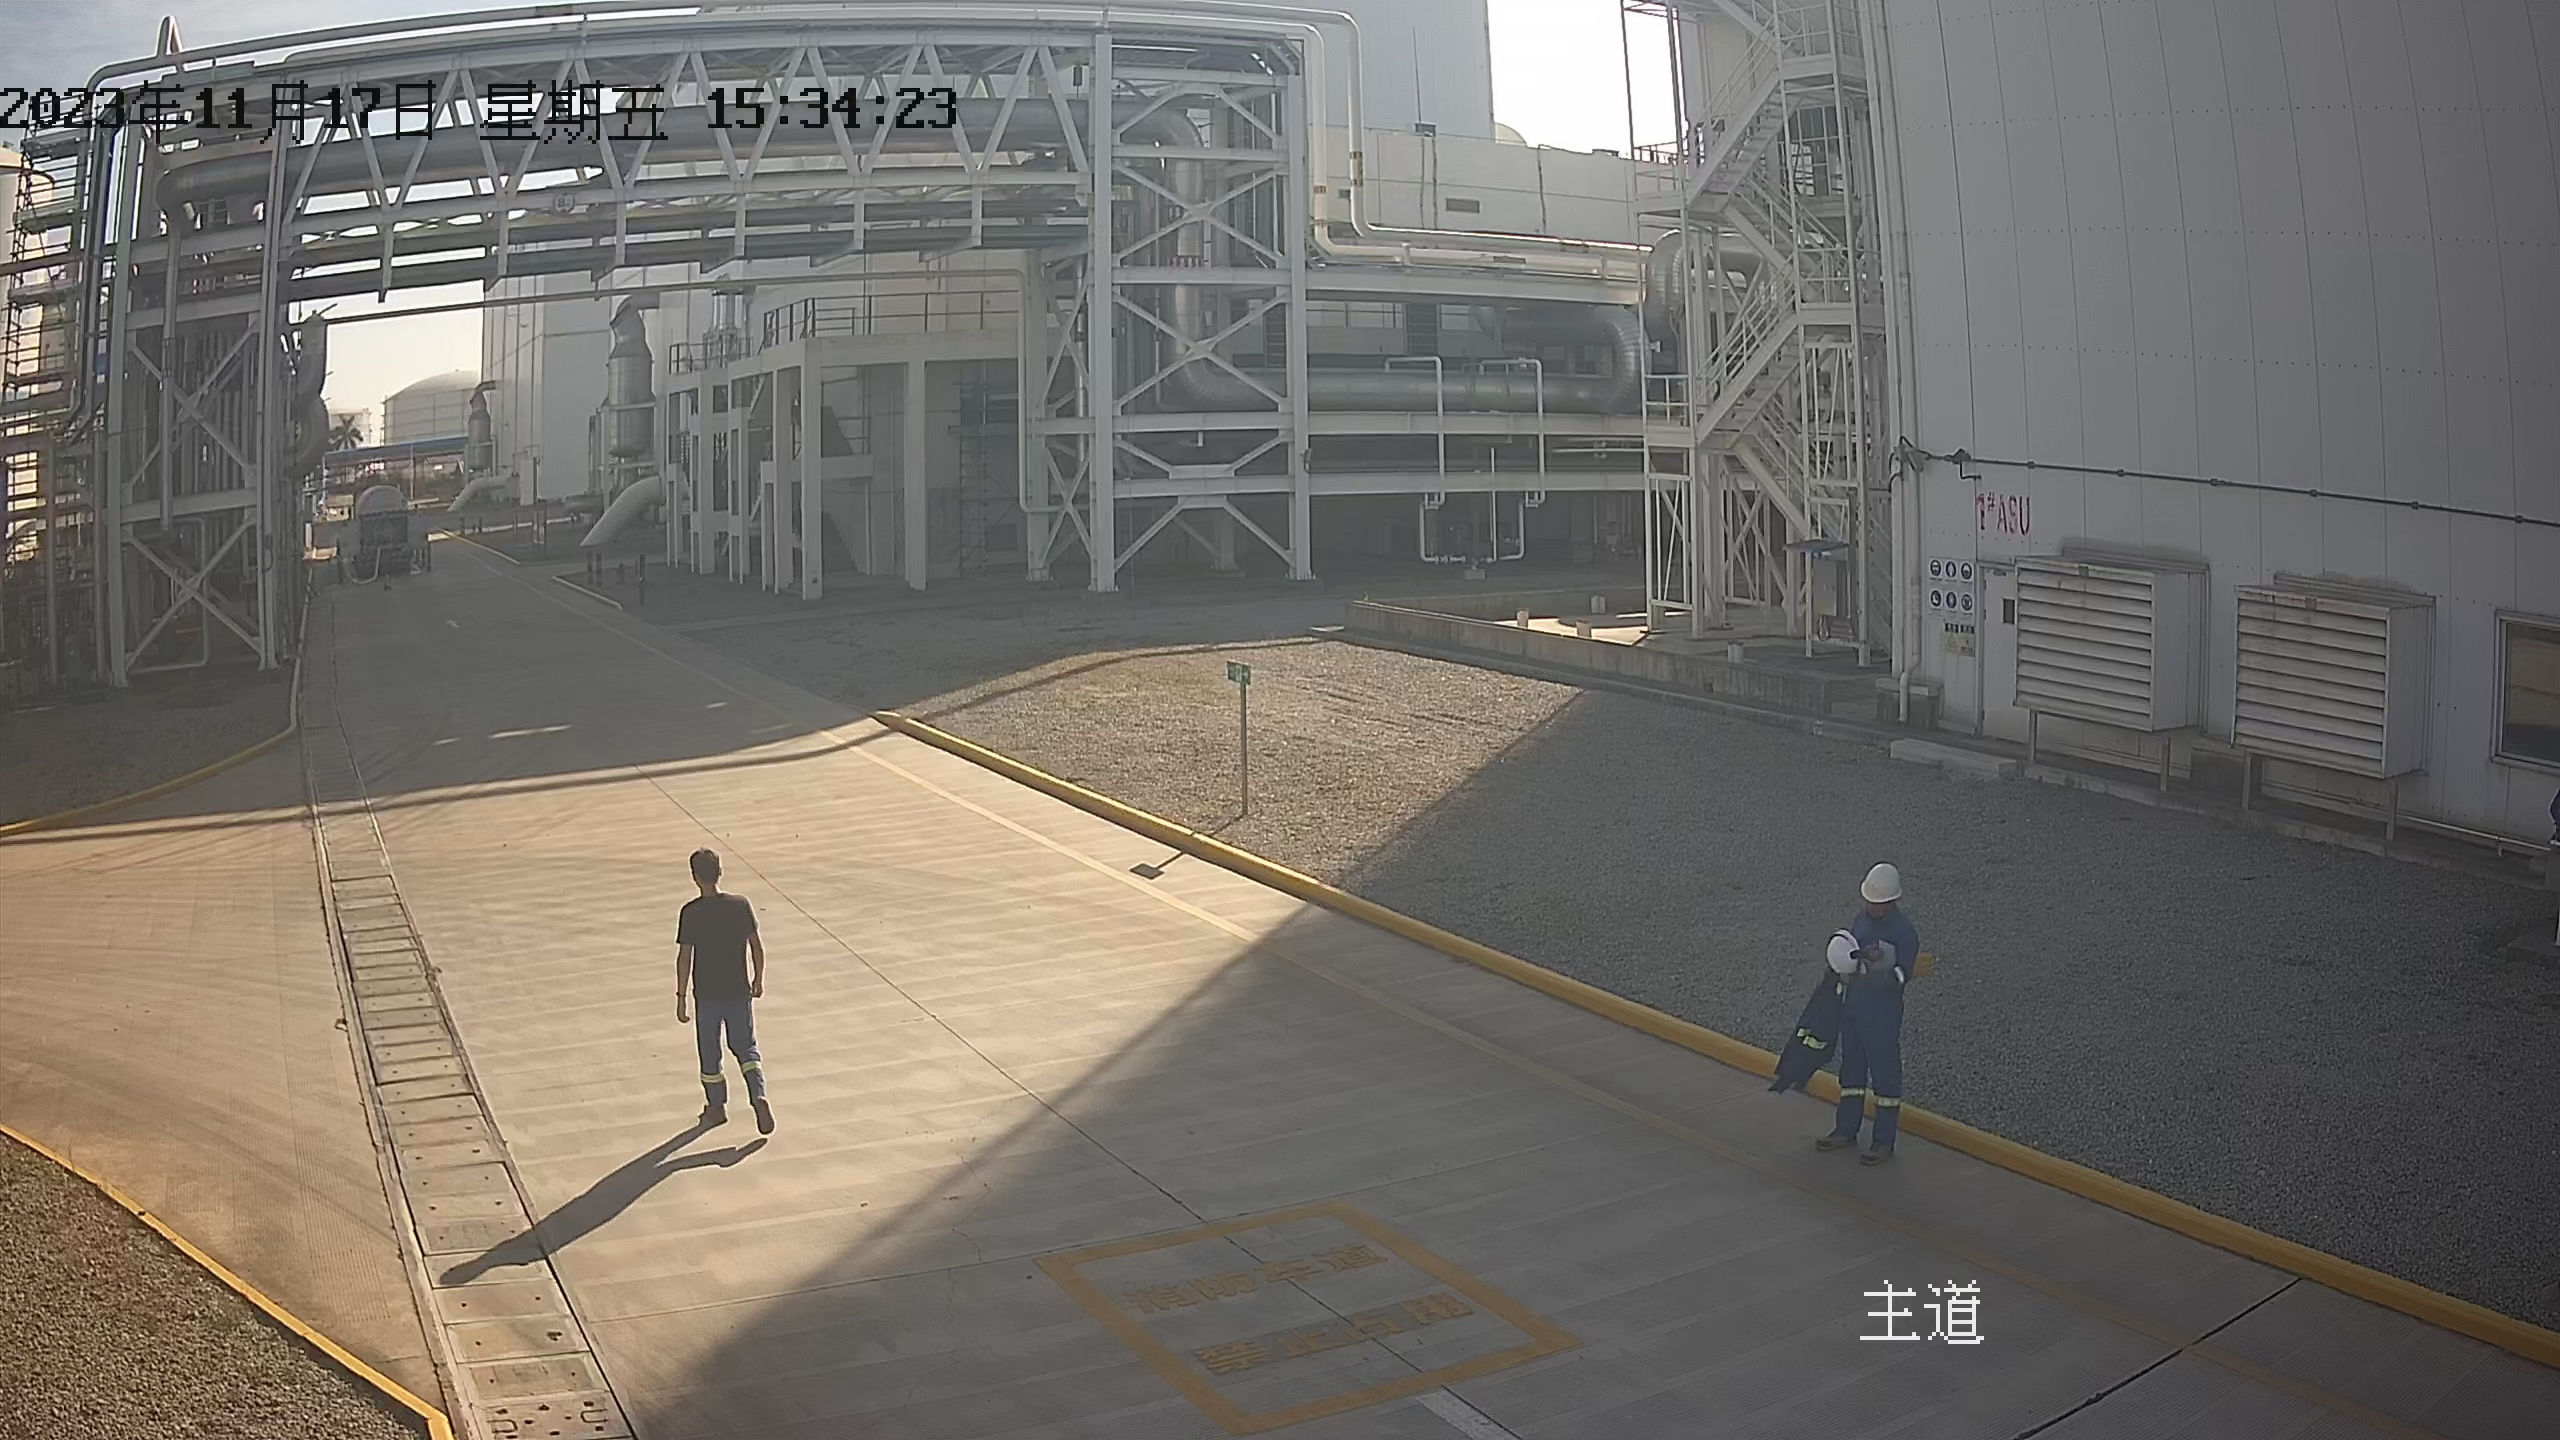Body_without_uniform: (627, 873, 814, 1157)
Head_with_Helmet: (1814, 838, 1929, 927)
Head_without_covering: (653, 832, 766, 899)
Uniform: (1759, 890, 1968, 1182)
